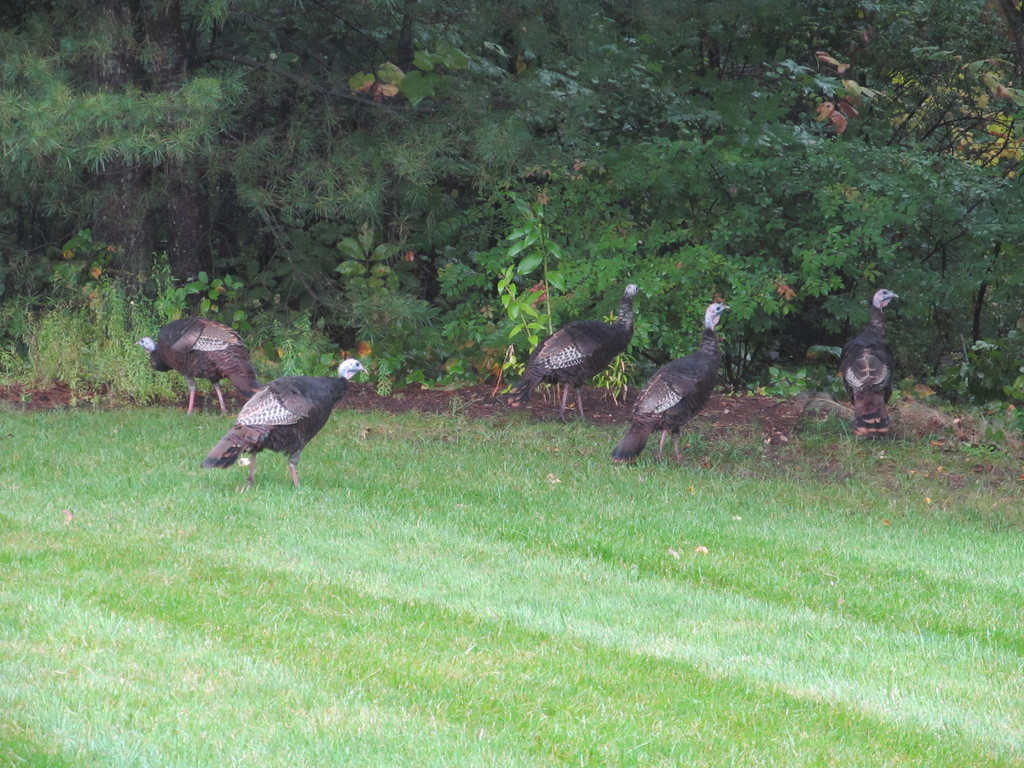person: (836, 297, 895, 435)
